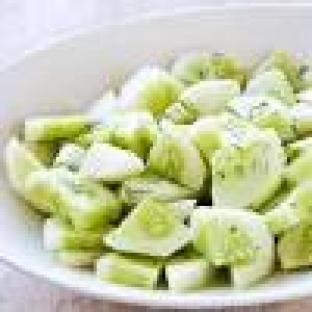Cucumber: (191, 210, 274, 287), (25, 169, 121, 230), (213, 132, 287, 209), (107, 200, 190, 255), (147, 122, 205, 190), (119, 66, 184, 118), (228, 97, 296, 140), (79, 144, 143, 184), (97, 253, 162, 290), (266, 181, 311, 233), (44, 216, 109, 252), (119, 175, 196, 205), (7, 138, 43, 202), (103, 113, 156, 156), (178, 79, 240, 115), (172, 54, 246, 84), (166, 253, 215, 293), (247, 69, 296, 106), (256, 50, 299, 90), (191, 116, 224, 165), (25, 116, 90, 140), (278, 222, 311, 268), (88, 91, 121, 121), (284, 150, 311, 184), (25, 141, 59, 165), (54, 144, 84, 171), (57, 250, 102, 268), (291, 103, 311, 137), (166, 103, 196, 124), (172, 200, 196, 221), (288, 138, 311, 159), (300, 63, 311, 90), (297, 88, 311, 102)
